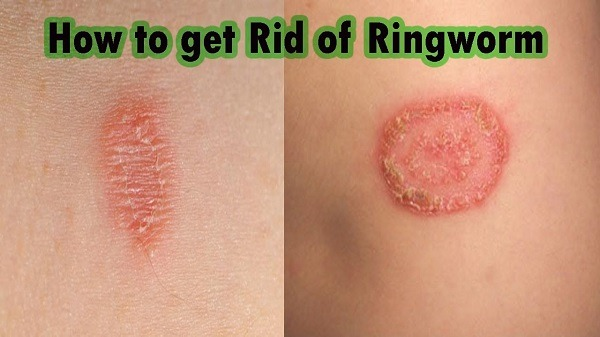Ringworm: (366, 78, 524, 230), (97, 75, 183, 265)
